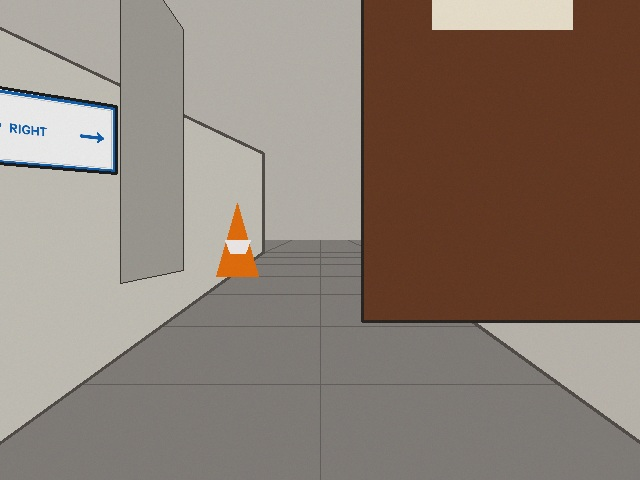directional_sign: (0, 80, 116, 173)
door: (362, 0, 639, 321)
obstacle: (216, 203, 258, 276)
